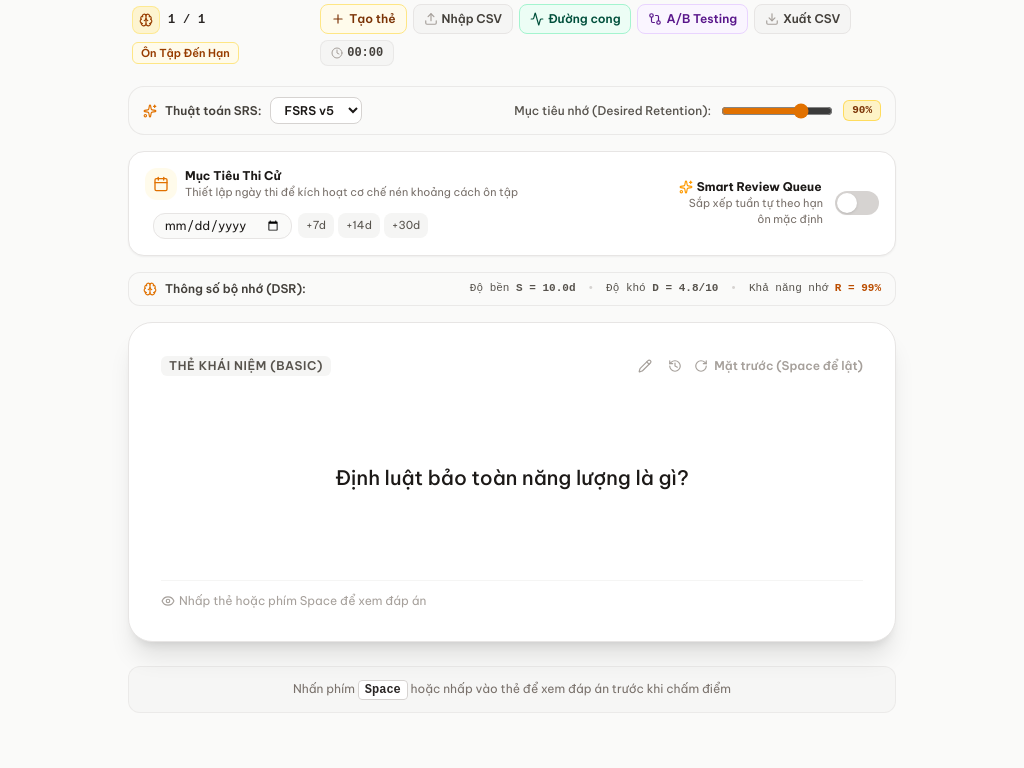
Test case: FSRS v5 UI Integration Tests (Phase 3B) › FlashcardReviewStudio FSRS v5 Controls & DSR Telemetry › displays 4 interval previews (1d, 3d, etc.) when card is flipped
Note: Flip the card
Click the text "Định luật bảo toàn năng lượng là gì?": (512, 477) [335, 465, 689, 490]
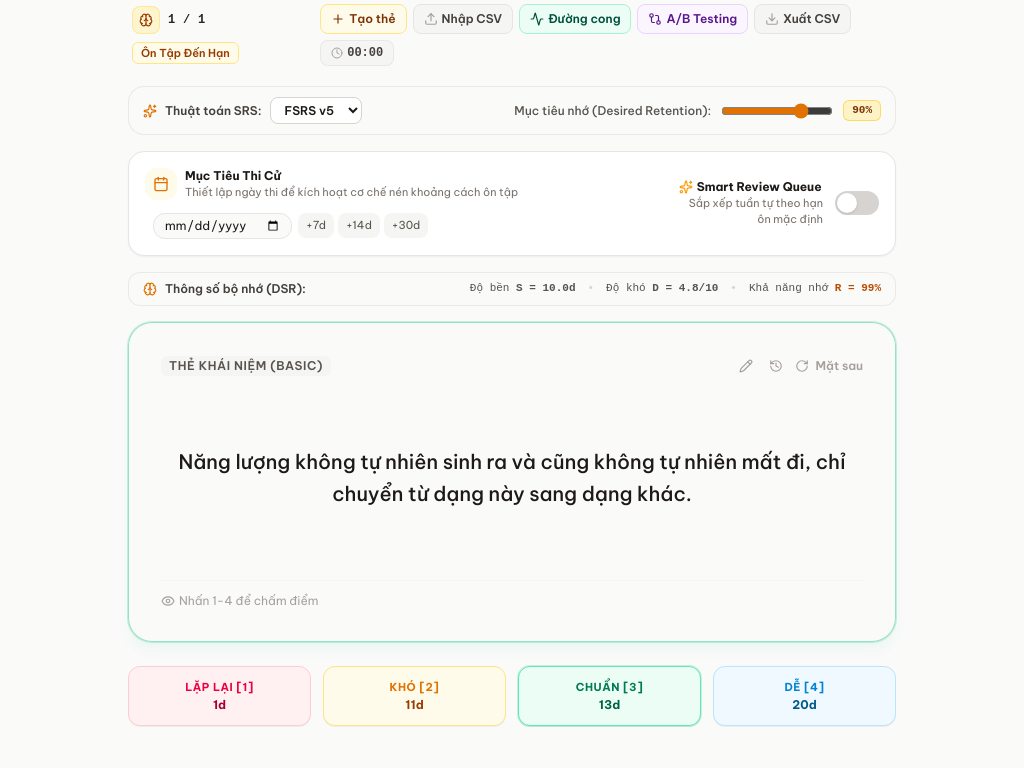
Now the text "1d" is shown, box [213, 697, 226, 713]
Now the text "11d" is shown, box [405, 697, 424, 713]
Now the text "13d" is shown, box [599, 697, 620, 713]
